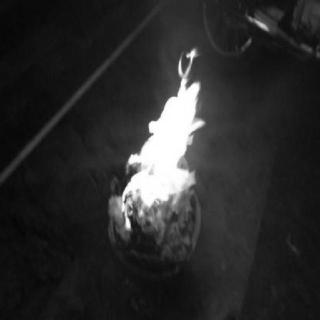Fire: (113, 46, 209, 237)
